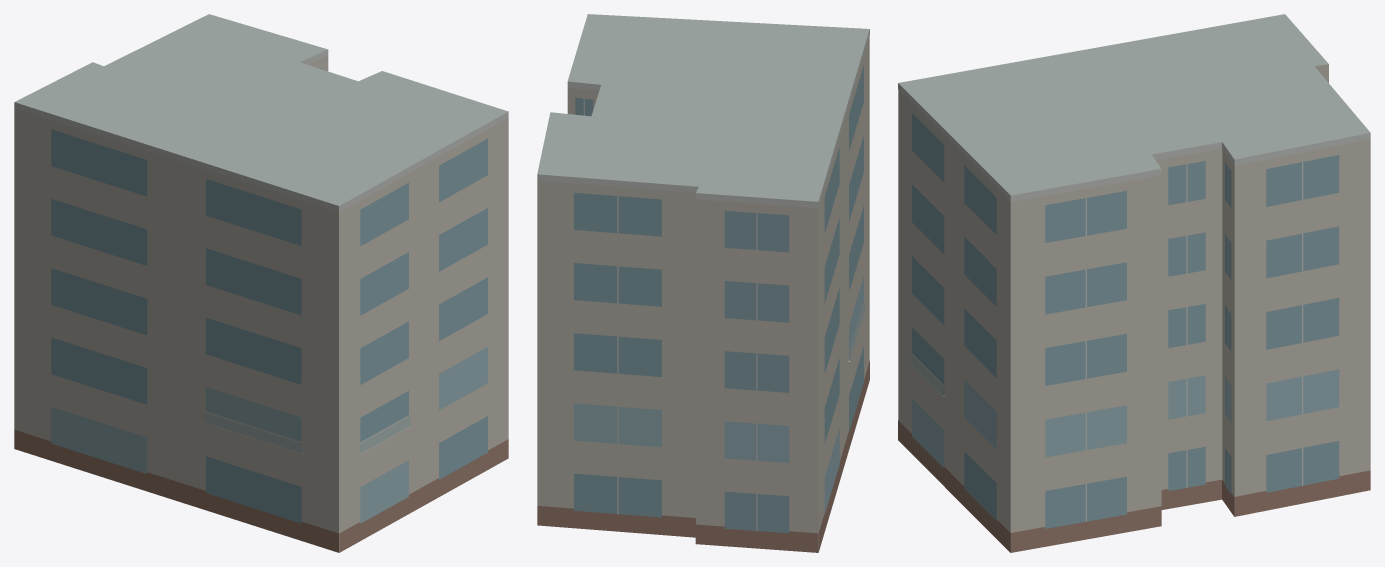
File: survey-upis-32741431.glb
The picture shows the model from 3 angles, left to right: view 1: azimuth 30°, elevation 25°; view 2: azimuth 150°, elevation 25°; view 3: azimuth 270°, elevation 25°; orthographic projection. The views are drawn at different scales.
Parts seen in each view (by area): view 1: survey-upis-32741431.tmp; view 2: survey-upis-32741431.tmp; view 3: survey-upis-32741431.tmp.
Boxes of the visible parts, x1,y1,x2,y2 form: survey-upis-32741431.tmp: (14, 14, 508, 552); survey-upis-32741431.tmp: (537, 14, 869, 552); survey-upis-32741431.tmp: (898, 14, 1370, 552).
Size of the model in its own units: 14.77 by 13.55 by 16.25.
